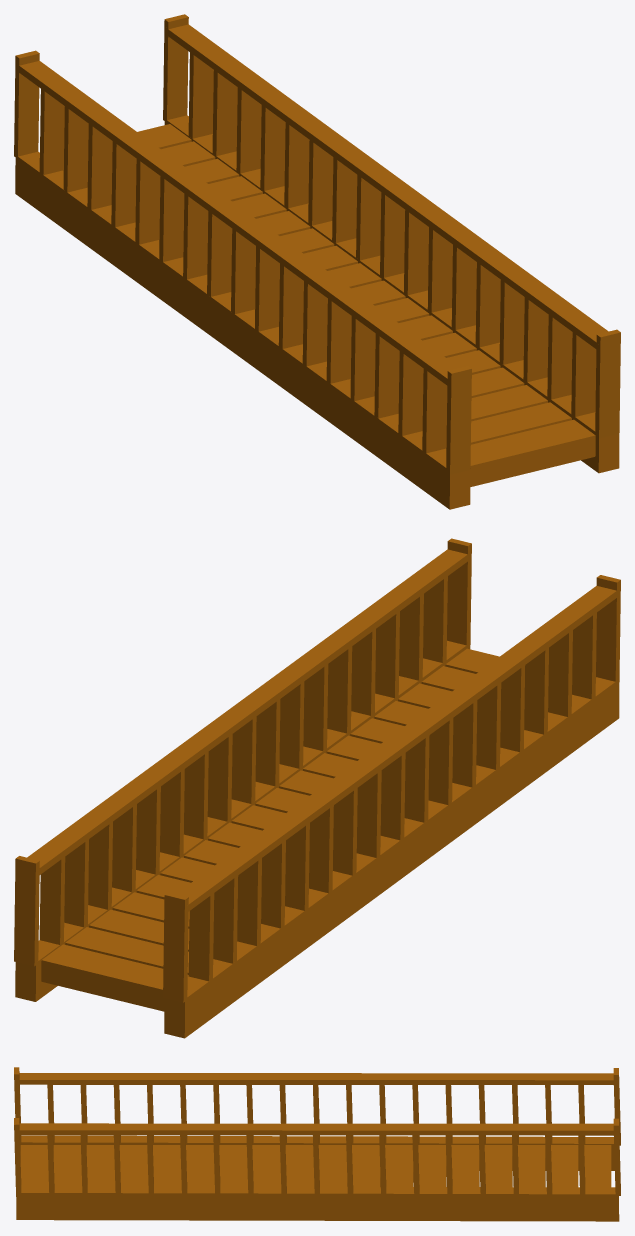
Rendered from puente.FBX.
3 views of the same model, one above another, from view 1: azimuth 30°, elevation 25°; view 2: azimuth 150°, elevation 25°; view 3: azimuth 270°, elevation 25° (orthographic). The views are drawn at different scales.
Parts seen in each view (by area): view 1: Box022; view 2: Box022; view 3: Box022.
Part boxes in pixels (x1,y1,x2,y2): Box022: (14, 14, 620, 509); Box022: (14, 538, 620, 1038); Box022: (14, 1067, 620, 1221).
Bounding box in the file's own units: 20.93 × 16.46 × 93.59.
